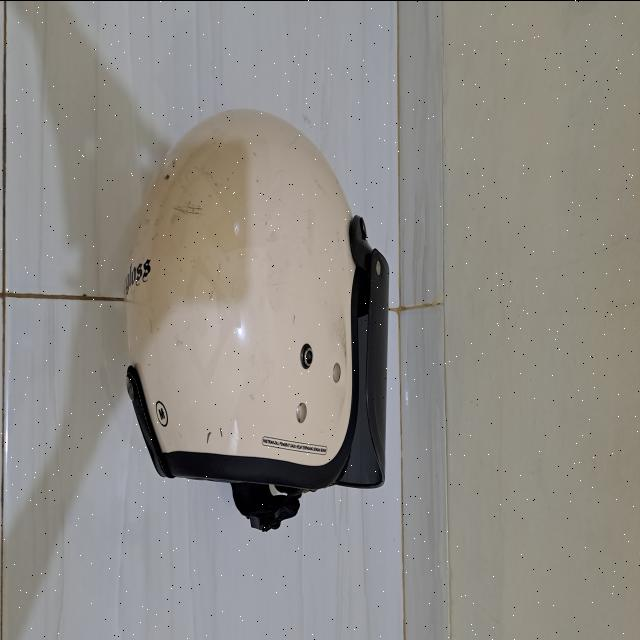Helmet: (122, 106, 394, 522)
